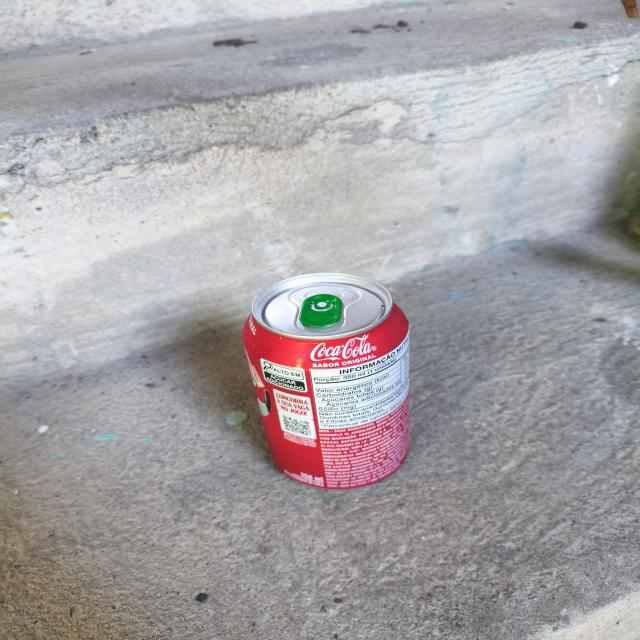Coca Cola: (244, 270, 470, 550)
